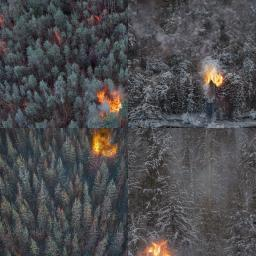Small fire: (91, 87, 130, 120), (87, 132, 126, 161), (198, 62, 227, 93), (135, 234, 173, 256)
